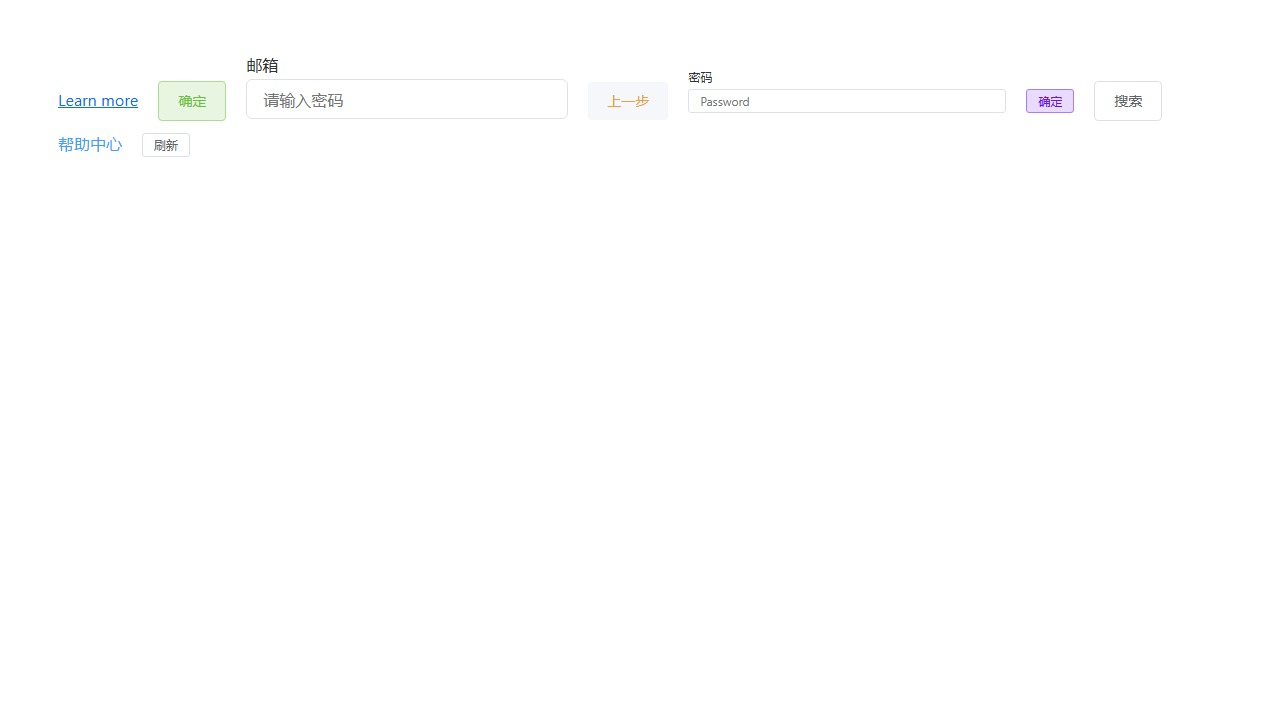button: (588, 81, 668, 119), (158, 80, 226, 120), (1094, 80, 1162, 120), (1026, 88, 1074, 112), (142, 132, 190, 156)
input: (246, 79, 568, 119), (688, 88, 1006, 112)
link: (58, 88, 138, 110), (58, 132, 122, 154)
